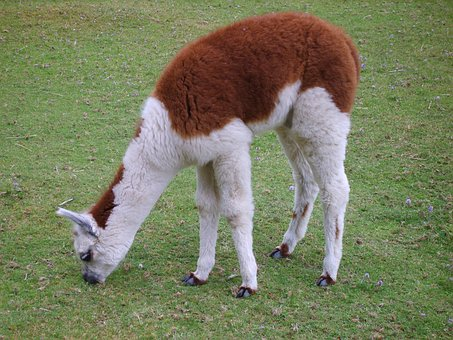alpaca: (55, 12, 360, 299)
